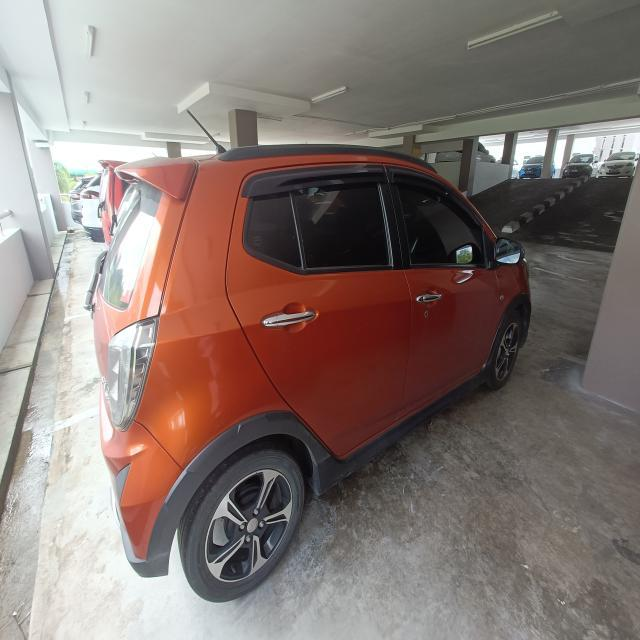PeroduaAxia: (84, 132, 532, 603)
